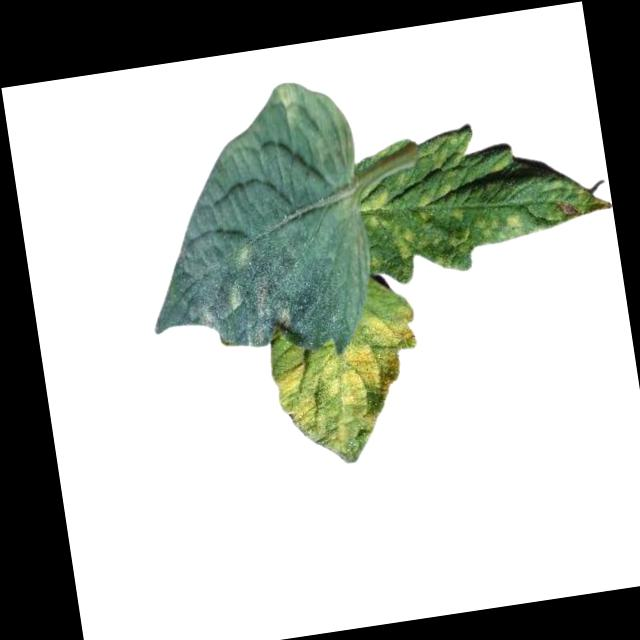Leaf_Mold: (345, 107, 619, 290), (262, 302, 434, 474), (180, 239, 295, 354), (269, 73, 360, 192)
